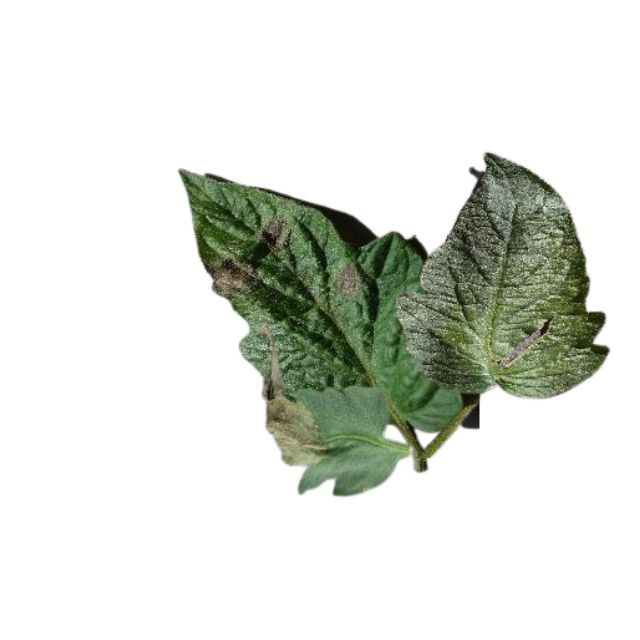Late_blight: (267, 397, 329, 467), (208, 257, 260, 297), (259, 324, 286, 399), (333, 261, 359, 295), (262, 213, 287, 247)
